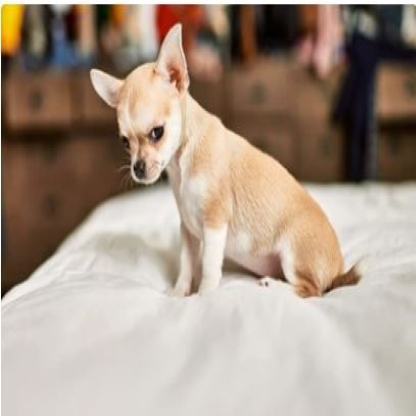chihuahua: (88, 22, 361, 300)
